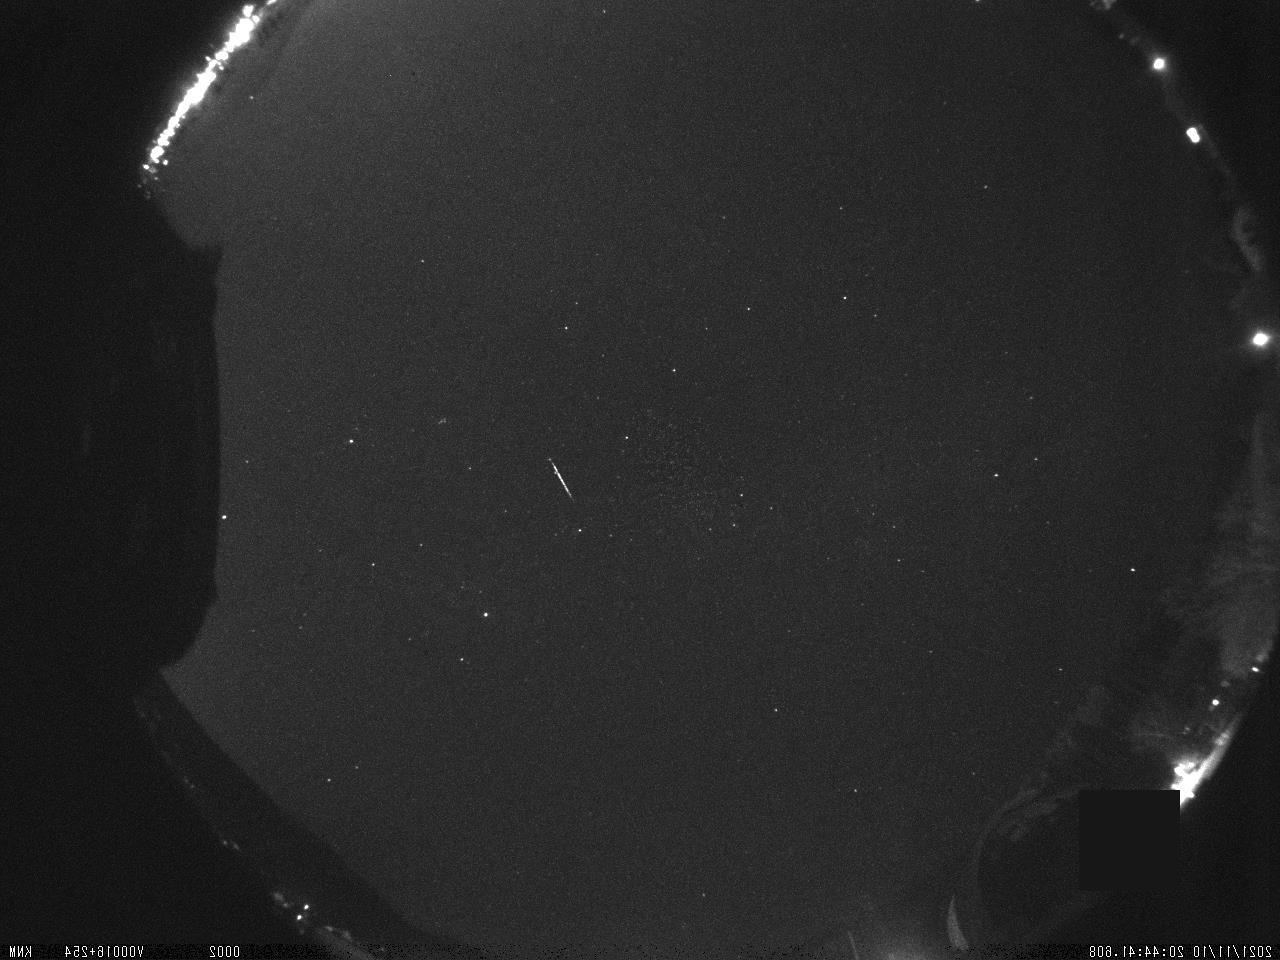meteor: (534, 456, 584, 498)
